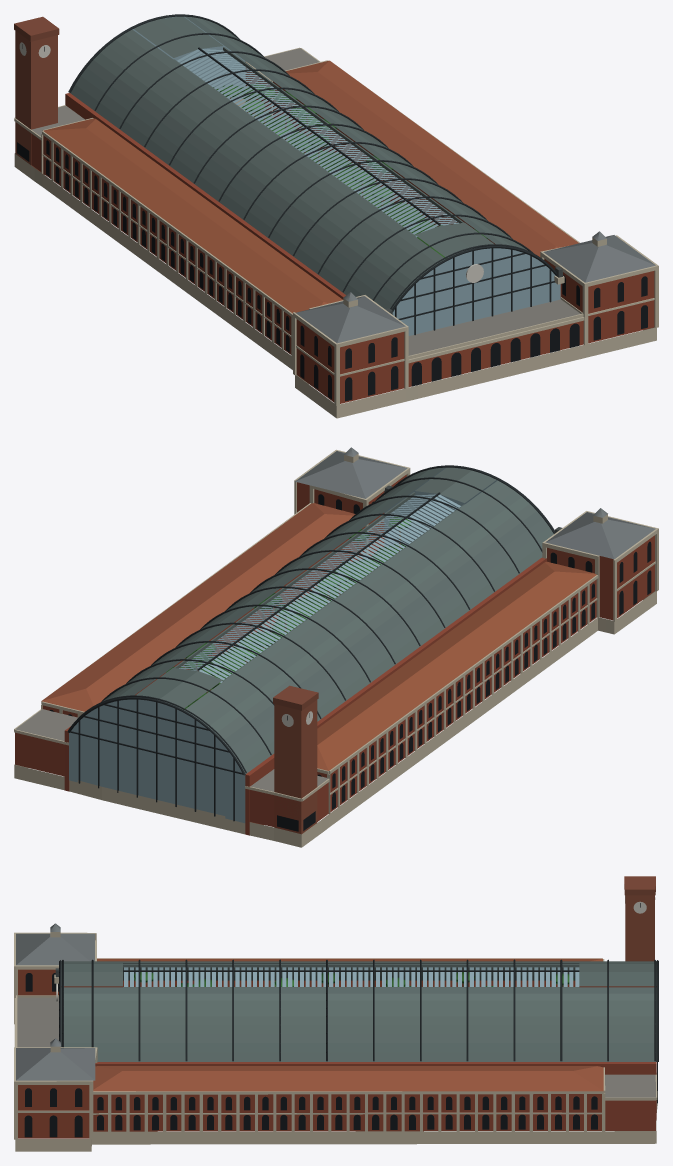
3 views of the same model, one above another, from view 1: azimuth 30°, elevation 25°; view 2: azimuth 150°, elevation 25°; view 3: azimuth 270°, elevation 25° (orthographic). The views are drawn at different scales.
Visible parts, largest first — view 1: shed_roof, tiles, brick, stone, iron, glass, clock_tower_1992, tropical_garden; view 2: shed_roof, tiles, glass, brick, stone, iron, clock_tower_1992, tropical_garden; view 3: shed_roof, brick, tiles, stone, iron, glass, clock_tower_1992, tropical_garden.
Part boxes in pixels (x1,y1,x2,y2): shed_roof: (70, 16, 527, 309); tiles: (43, 60, 655, 343); brick: (31, 48, 654, 403); stone: (14, 47, 658, 418); iron: (17, 14, 647, 401); glass: (132, 16, 560, 335); clock_tower_1992: (14, 16, 59, 174); tropical_garden: (213, 83, 488, 258); shed_roof: (102, 467, 553, 773); tiles: (41, 447, 655, 770); glass: (69, 467, 497, 823); brick: (15, 474, 654, 835); stone: (14, 449, 658, 847); iron: (49, 465, 651, 831); clock_tower_1992: (273, 685, 318, 834); tropical_garden: (166, 517, 411, 709); shed_roof: (61, 961, 656, 1061); brick: (17, 969, 656, 1138); tiles: (16, 923, 603, 1091); stone: (14, 932, 657, 1151); iron: (24, 903, 658, 1137); glass: (124, 967, 579, 986); clock_tower_1992: (624, 876, 655, 961); tropical_garden: (134, 972, 573, 986).
Bounding box in the file's own units: 90.16 × 38.2 × 165.
